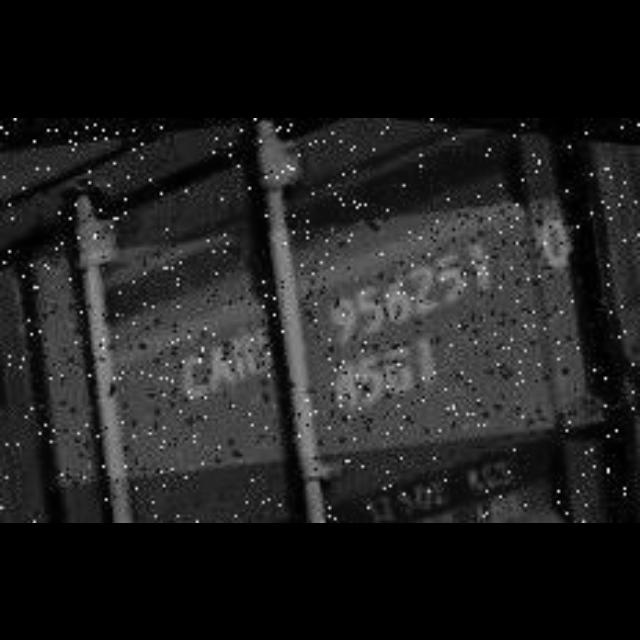0: (540, 213, 576, 275)
1: (469, 232, 497, 300)
2: (410, 254, 440, 320)
5: (436, 246, 466, 308), (357, 348, 385, 414), (357, 282, 387, 338)
6: (383, 336, 412, 412), (382, 270, 413, 334)
8: (326, 356, 360, 418)
9: (326, 284, 362, 352)
a: (208, 336, 236, 396)
c: (172, 348, 214, 404)
i: (416, 324, 440, 406)
m: (233, 328, 261, 384)
